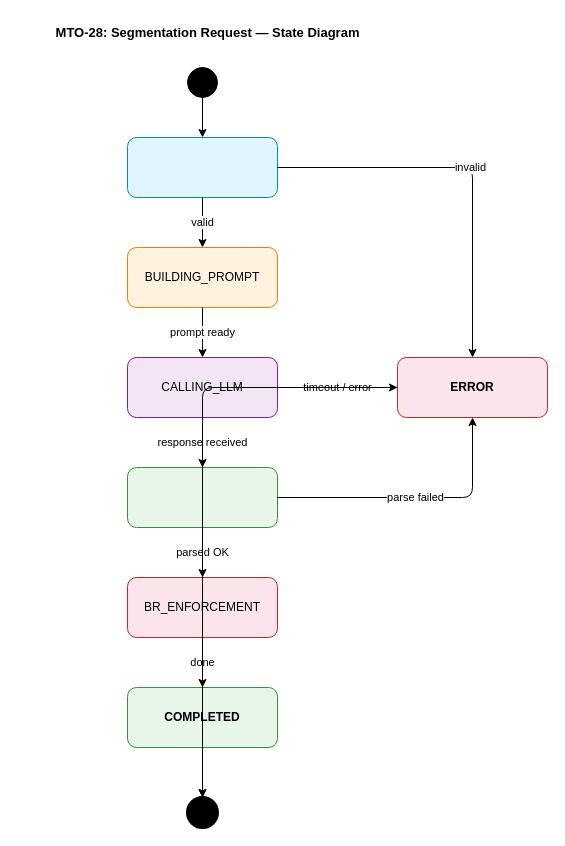
The diagram is 565 pixels wide and 846 high, and some of its shapes have lost their labels. Here are the shapes that lost their labels. From the top down, the box of each, then its label:
(126, 136, 278, 198): VALIDATING
(126, 466, 278, 528): PARSING_RESPONSE
